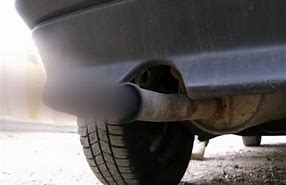smoke: (1, 57, 136, 125)
